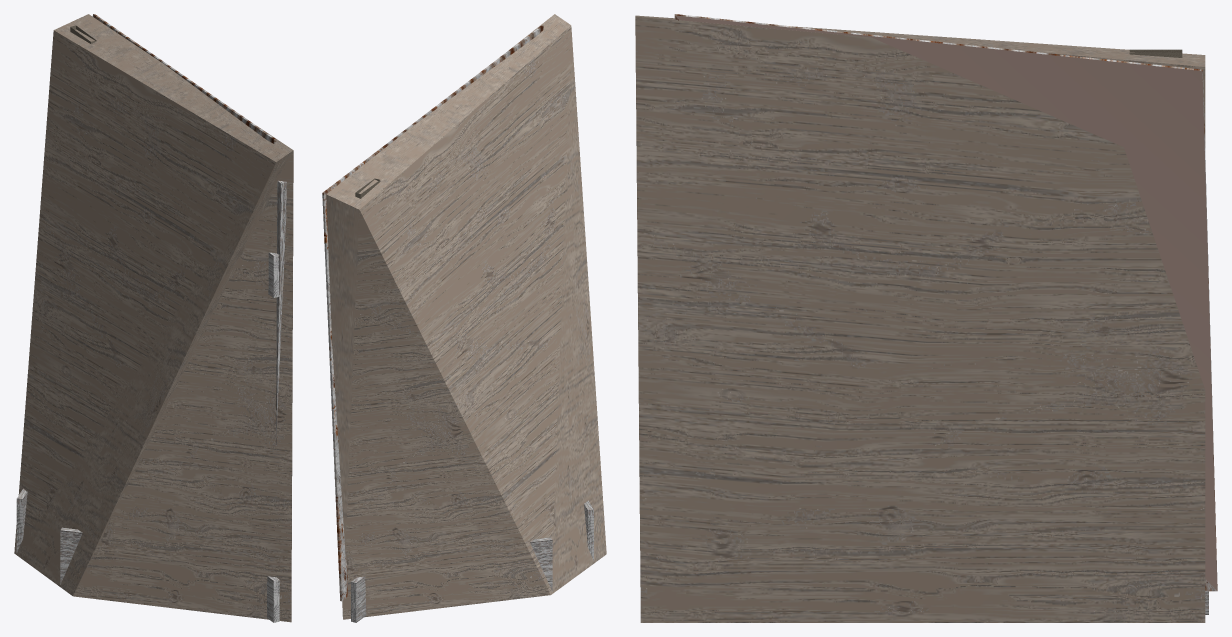
The model's file is si_slumber_wall_a.DAE.
The picture shows the model from 3 angles, left to right: view 1: azimuth 30°, elevation 25°; view 2: azimuth 150°, elevation 25°; view 3: azimuth 270°, elevation 25°; orthographic projection. The views are drawn at different scales.
Visible parts, largest first — view 1: Colmesh-1, si_slumber_wall_a40, si_slumber_wall_a100; view 2: Colmesh-1, si_slumber_wall_a40, si_slumber_wall_a100; view 3: Colmesh-1, si_slumber_wall_a15, si_slumber_wall_a100.
Boxes of the visible parts, x1,y1,x2,y2 form: Colmesh-1: [14, 14, 293, 622]; si_slumber_wall_a40: [23, 14, 281, 622]; si_slumber_wall_a100: [16, 14, 286, 622]; Colmesh-1: [326, 14, 606, 619]; si_slumber_wall_a40: [324, 26, 587, 622]; si_slumber_wall_a100: [322, 25, 593, 622]; Colmesh-1: [635, 15, 1205, 622]; si_slumber_wall_a15: [674, 15, 1217, 590]; si_slumber_wall_a100: [674, 14, 1217, 588].
Bounding box in the file's own units: 84.28 × 207 × 238.
